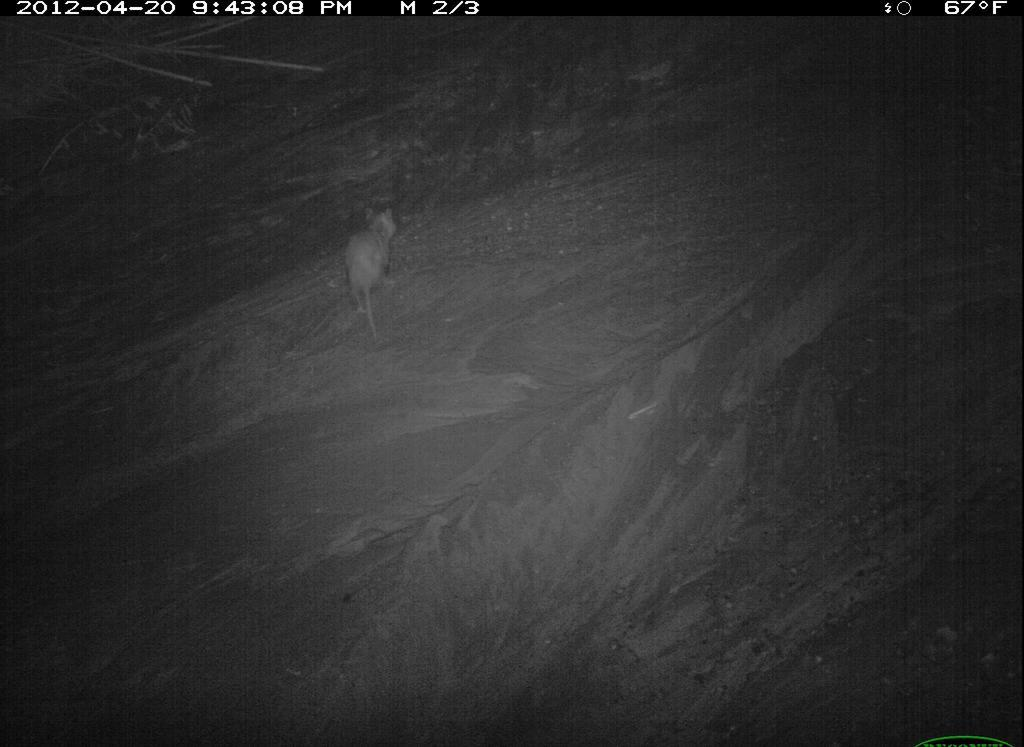opossum: (679, 400, 807, 684)
